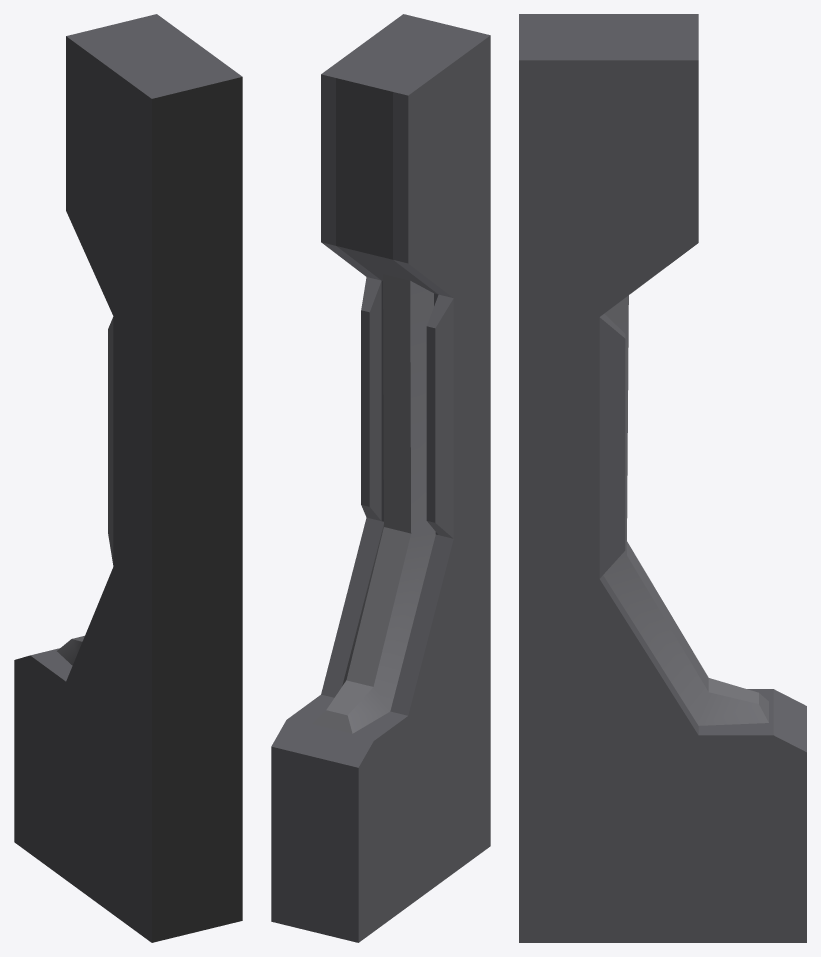
Rendered from SM_Bld_Wall_Pillar_06.fbx.
3 renders of one model, left to right at view 1: azimuth 30°, elevation 25°; view 2: azimuth 150°, elevation 25°; view 3: azimuth 270°, elevation 25°, orthographic. The views are drawn at different scales.
Parts seen in each view (by area): view 1: SM_Bld_Wall_Pillar_06_LOD0; view 2: SM_Bld_Wall_Pillar_06_LOD0; view 3: SM_Bld_Wall_Pillar_06_LOD0.
Part boxes in pixels (box(x1,y1,x2,y2)): SM_Bld_Wall_Pillar_06_LOD0: box(14, 14, 242, 942); SM_Bld_Wall_Pillar_06_LOD0: box(271, 14, 490, 942); SM_Bld_Wall_Pillar_06_LOD0: box(519, 14, 806, 942).
Size of the model in its own units: 150 by 57.31 by 509.
1 material, 1 textured.
